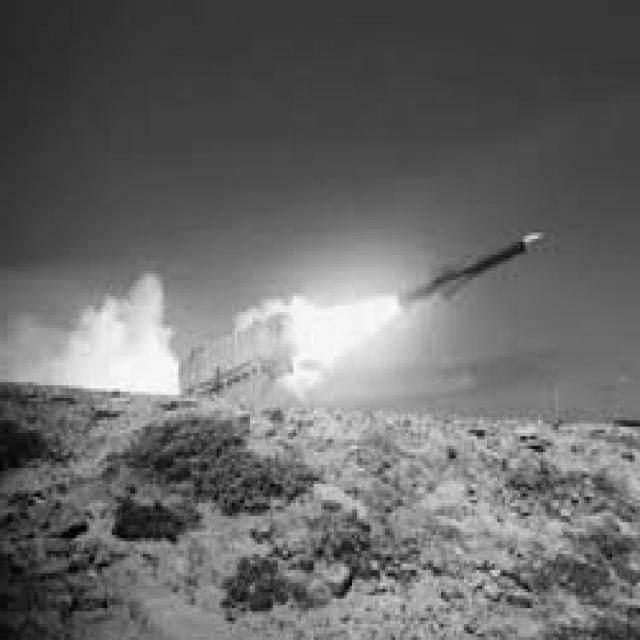missile: (382, 223, 547, 318)
